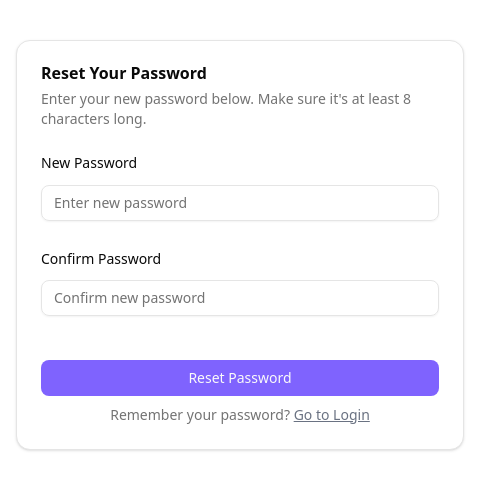
ResetPasswordForm › shows error if password is too short
Type "short" into the password field labelled "New Password" at [240, 202], box [41,184,439,220]
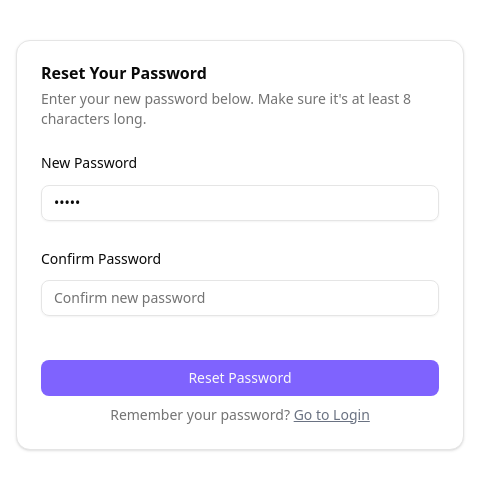
Type "short" into the password field labelled "Confirm Password" at [240, 298], box [41,280,439,316]
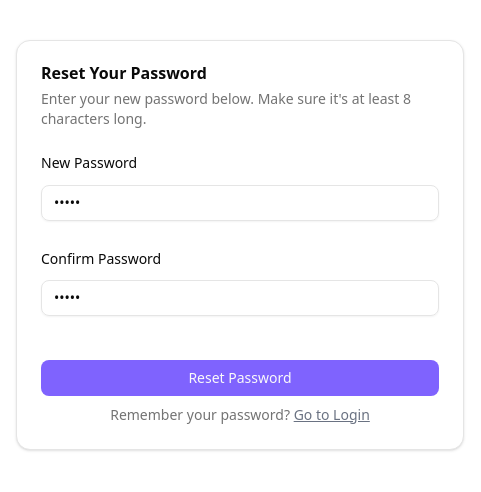
Click the button "Reset Password" at [240, 378], box [41,360,439,396]
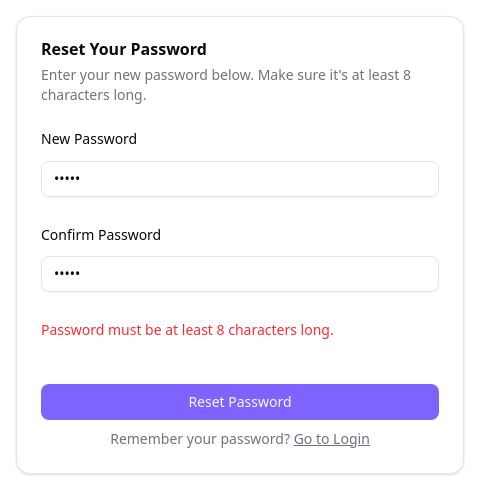
Expected: the text "Password must be at least 8 characters long." is shown, [41,320,334,339]
